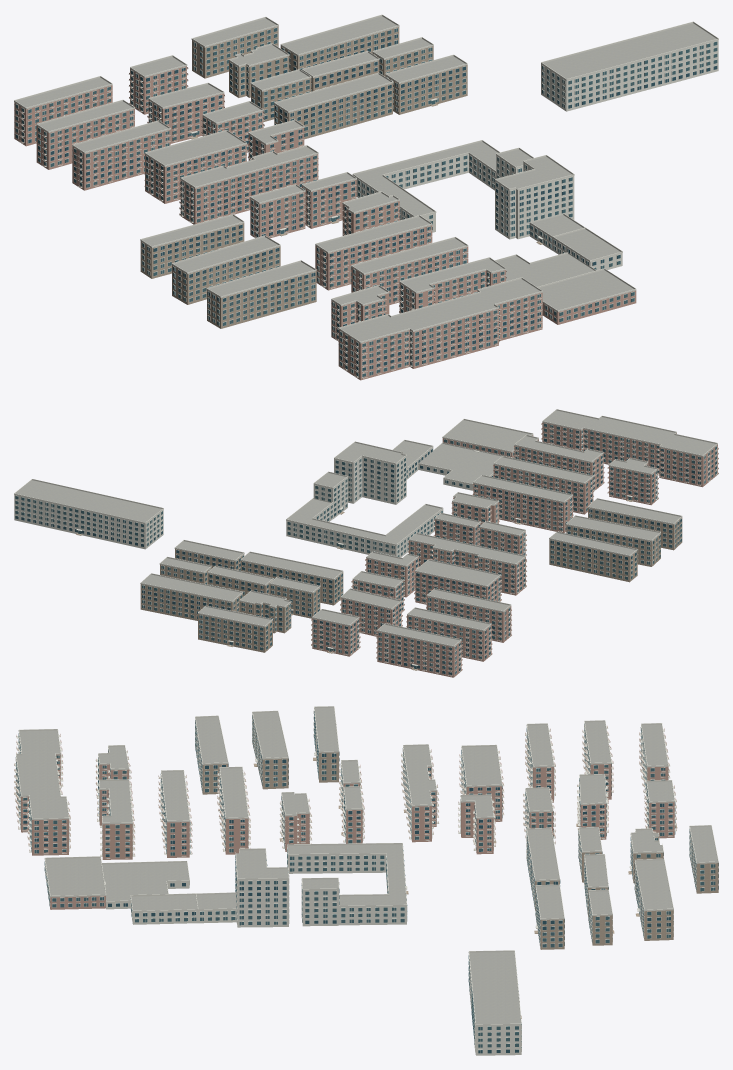
The model's file is chunk-p1-p0.glb.
3 renders of one model, top to bottom at view 1: azimuth 30°, elevation 25°; view 2: azimuth 150°, elevation 25°; view 3: azimuth 270°, elevation 25°, orthographic. The views are drawn at different scales.
Visible parts, largest first — view 1: chunk-p1-p0; view 2: chunk-p1-p0; view 3: chunk-p1-p0.
Part boxes in pixels (x1,y1,x2,y2): chunk-p1-p0: (14,14,718,380); chunk-p1-p0: (14,409,718,677); chunk-p1-p0: (14,706,718,1055).
Bounding box in the file's own units: 374 × 28.93 × 363.
6 materials, 2 textured.
